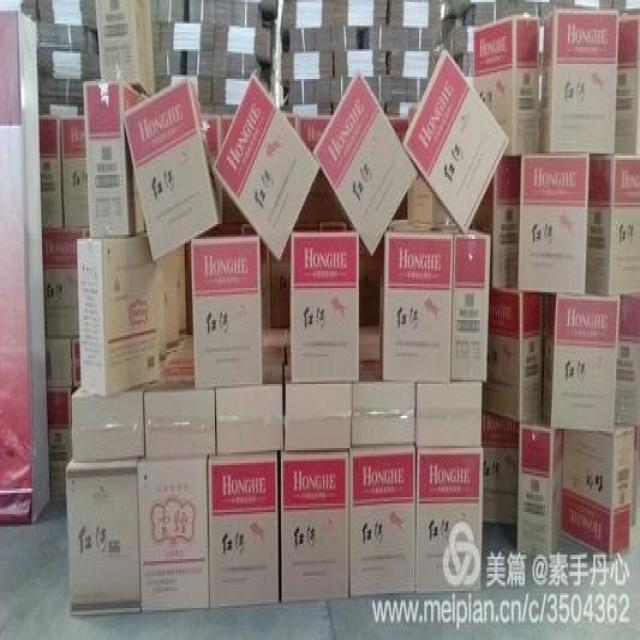box: (215, 73, 321, 262), (313, 66, 418, 254), (402, 49, 510, 230), (122, 75, 223, 262), (76, 233, 158, 397), (379, 220, 454, 384), (65, 457, 140, 617), (137, 454, 210, 612), (539, 9, 618, 154), (207, 452, 279, 608), (191, 237, 263, 390), (542, 292, 621, 431), (348, 444, 417, 597), (518, 151, 590, 294), (83, 83, 149, 237), (415, 448, 484, 595), (291, 233, 359, 382), (281, 450, 348, 599), (563, 422, 634, 561), (474, 17, 539, 154), (483, 286, 542, 422), (587, 156, 640, 297), (444, 226, 491, 382), (473, 154, 521, 288), (518, 418, 563, 557), (145, 373, 217, 459), (72, 382, 150, 461), (216, 363, 283, 452), (285, 365, 352, 450), (95, 0, 154, 96), (352, 361, 415, 446), (42, 226, 88, 337), (415, 382, 483, 448), (482, 414, 520, 523), (615, 13, 640, 156), (616, 286, 640, 425), (60, 115, 89, 228), (46, 386, 73, 499), (40, 115, 62, 228), (408, 173, 454, 226), (269, 241, 291, 329), (299, 179, 343, 222), (162, 252, 180, 356), (158, 335, 195, 373), (47, 337, 72, 388), (299, 117, 333, 154), (359, 326, 379, 361)
